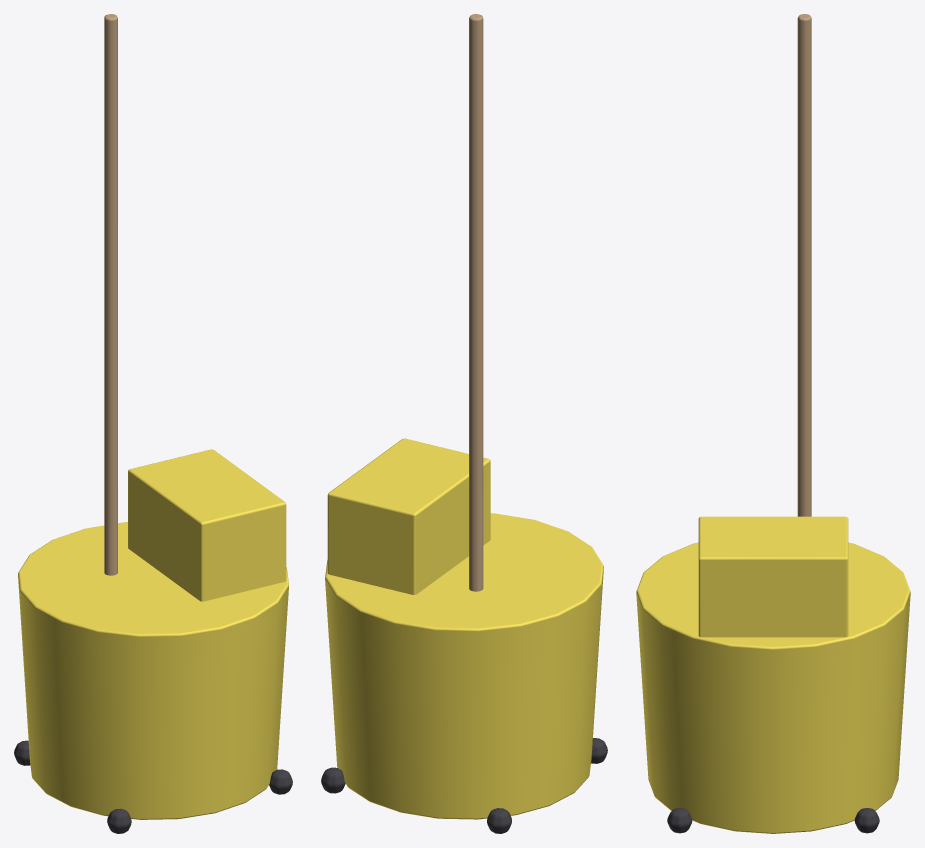
Rendered from SM_MopBucket.fbx.
3 views of the same model, side by side, from view 1: azimuth 30°, elevation 25°; view 2: azimuth 150°, elevation 25°; view 3: azimuth 270°, elevation 25° (orthographic). The views are drawn at different scales.
Visible parts, largest first — view 1: SM_MopBucket; view 2: SM_MopBucket; view 3: SM_MopBucket.
Boxes of the visible parts, x1=… form: SM_MopBucket: x1=14, y1=14, x2=292, y2=833; SM_MopBucket: x1=321, y1=14, x2=607, y2=833; SM_MopBucket: x1=636, y1=14, x2=910, y2=833.
Bounding box in the file's own units: 0.4395 × 1.35 × 0.4395.
